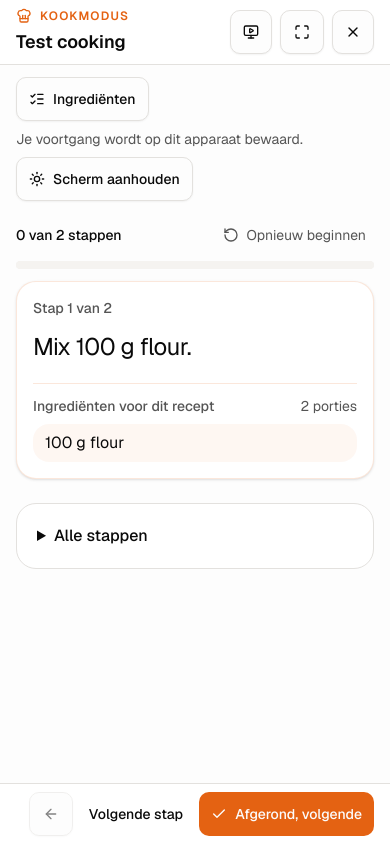
cooking mode › provides Dutch controls and toggles the mobile ingredient panel
Click the button "Ingrediënten": (82, 99) [16,77,149,121]
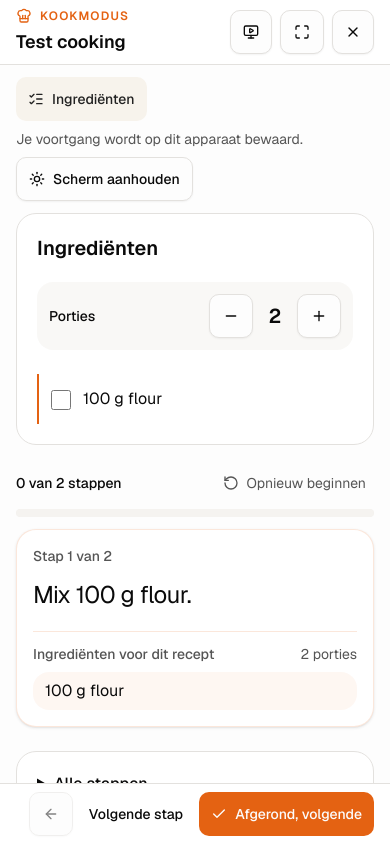
Expected: the button "Afgerond, volgende" is shown, [199,792,374,836]
Expected: the button "Ingrediënten" is expanded, [16,77,147,121]
